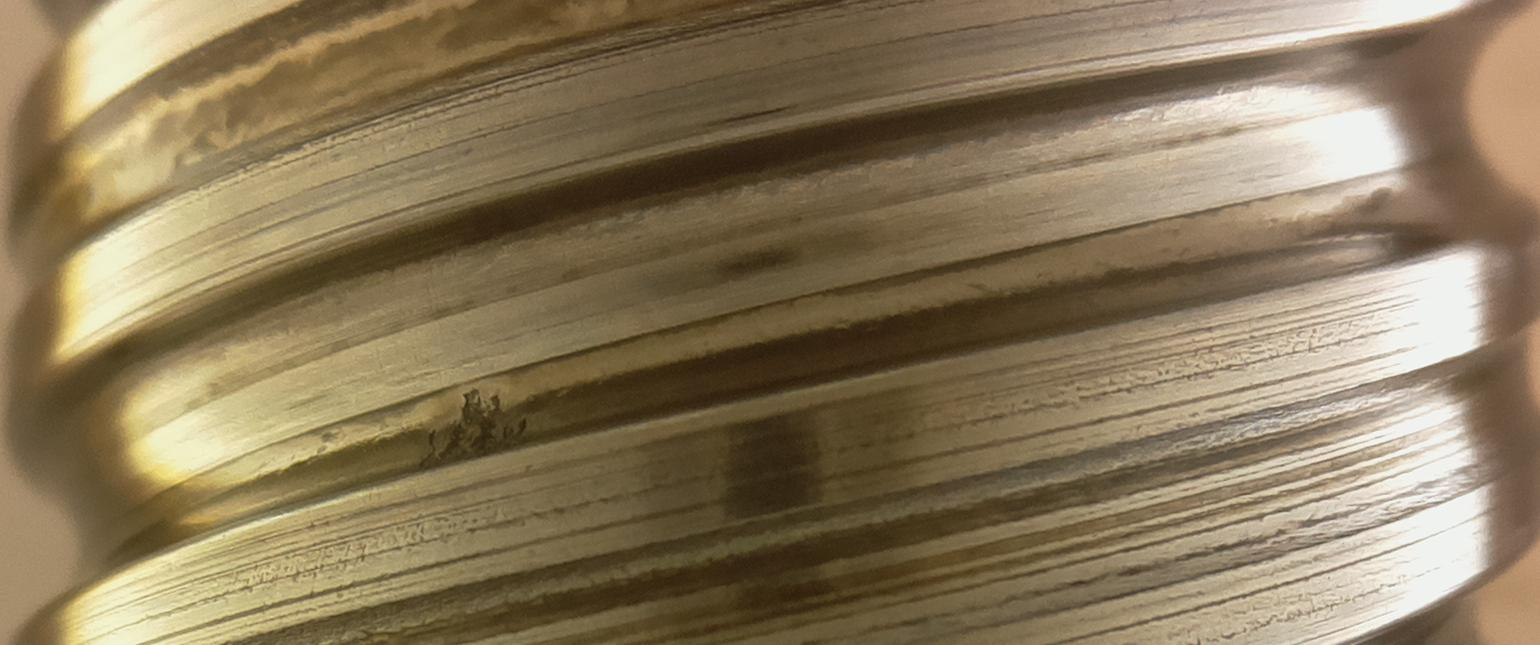pitting: (418, 388, 528, 467)
